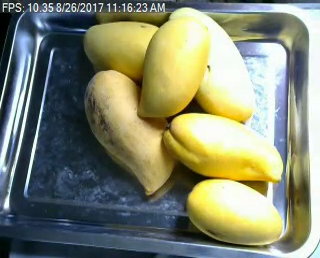Mango: (84, 70, 176, 193), (167, 7, 255, 121), (162, 114, 284, 182), (138, 19, 211, 117), (186, 177, 282, 244), (83, 21, 160, 84)
